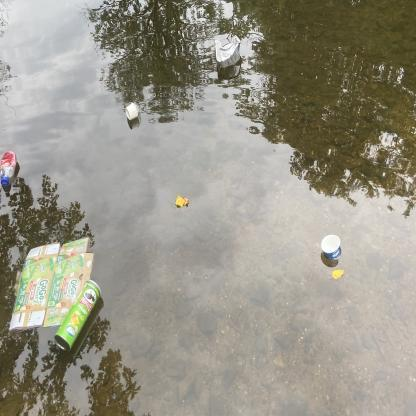trash: (5, 229, 102, 337), (49, 276, 105, 356), (210, 26, 246, 76), (0, 139, 20, 199), (315, 230, 344, 269), (124, 97, 144, 125)
